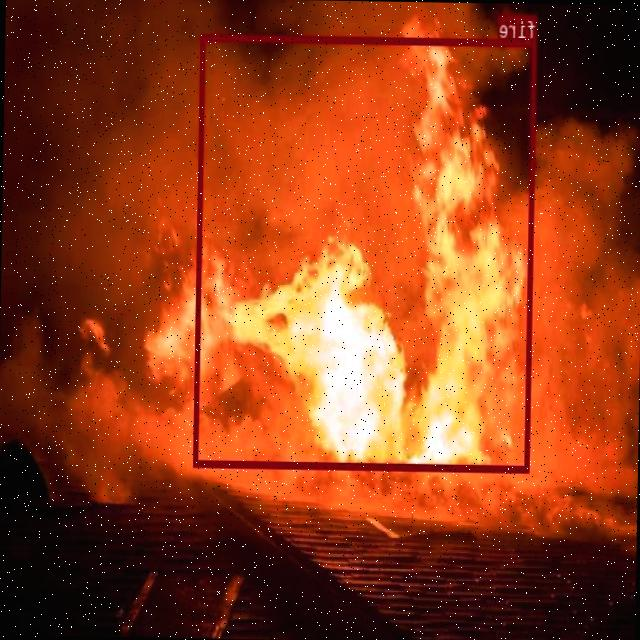fire: (194, 33, 536, 471)
